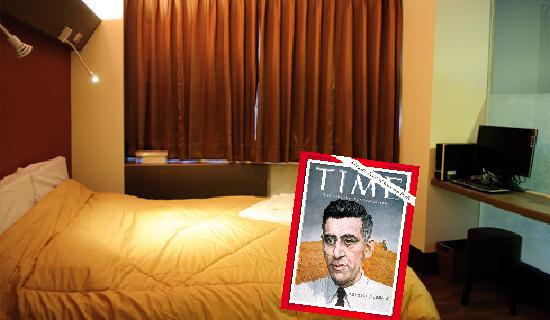times: (275, 151, 421, 319)
